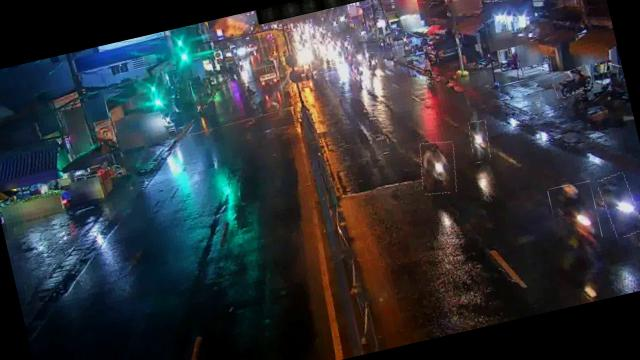Bike: (547, 180, 603, 246), (598, 170, 640, 239), (415, 138, 462, 198), (550, 66, 594, 99), (466, 119, 493, 163), (366, 52, 381, 76), (354, 57, 366, 77)
